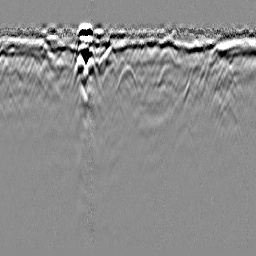cavity: (114, 62, 139, 95)
